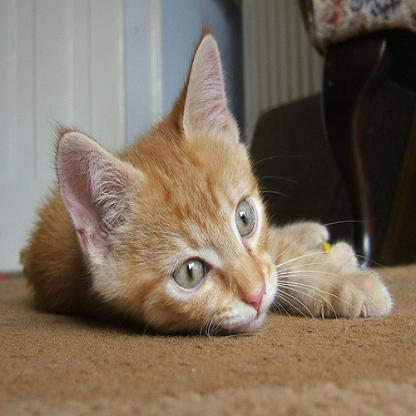cat: (31, 29, 403, 351)
